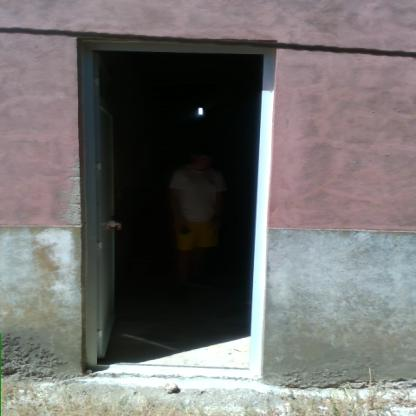open: (70, 22, 282, 382)
